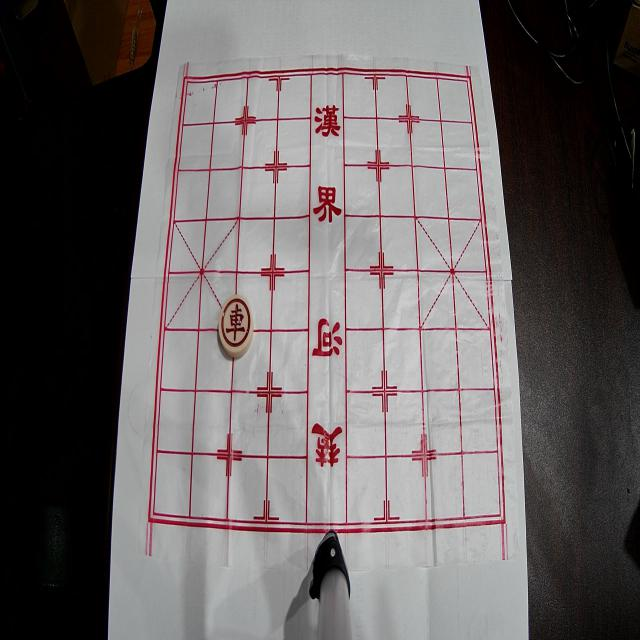red-chariot: (218, 294, 254, 358)
